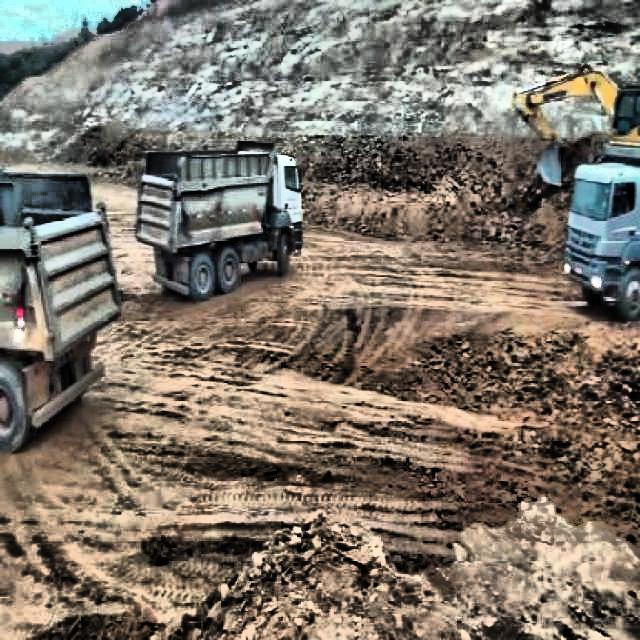dump_truck: (0, 164, 123, 456), (136, 139, 304, 303), (561, 163, 640, 321)
excavator: (511, 61, 638, 190)
